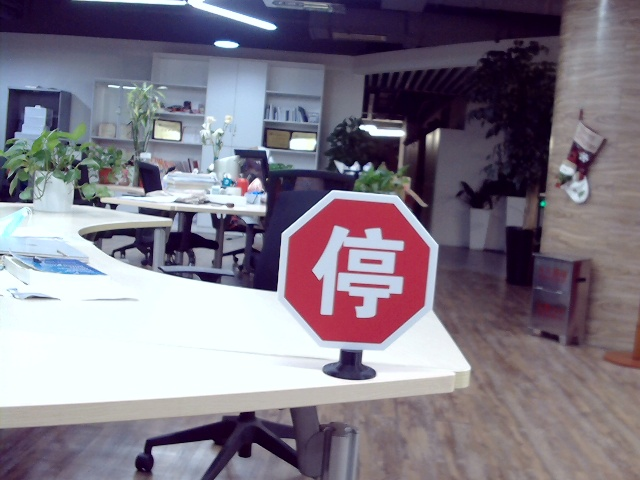stop: (314, 221, 403, 322)
